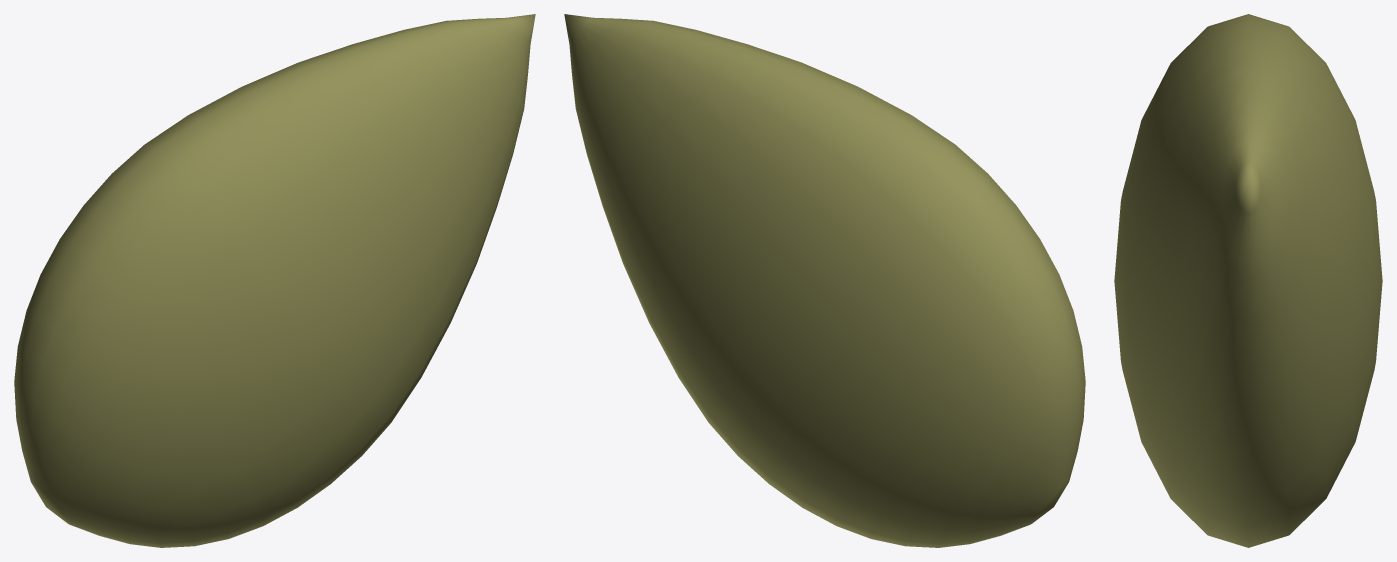
The model's file is seed.fbx.
3 renders of one model, left to right at view 1: azimuth 30°, elevation 25°; view 2: azimuth 150°, elevation 25°; view 3: azimuth 270°, elevation 25°, orthographic. The views are drawn at different scales.
Parts seen in each view (by area): view 1: seed; view 2: seed; view 3: seed.
Part boxes in pixels (x1,y1,x2,y2): seed: (14,14,535,547); seed: (564,14,1085,547); seed: (1114,14,1382,547).
Bounding box in the file's own units: 5.52 × 4.66 × 2.08.
